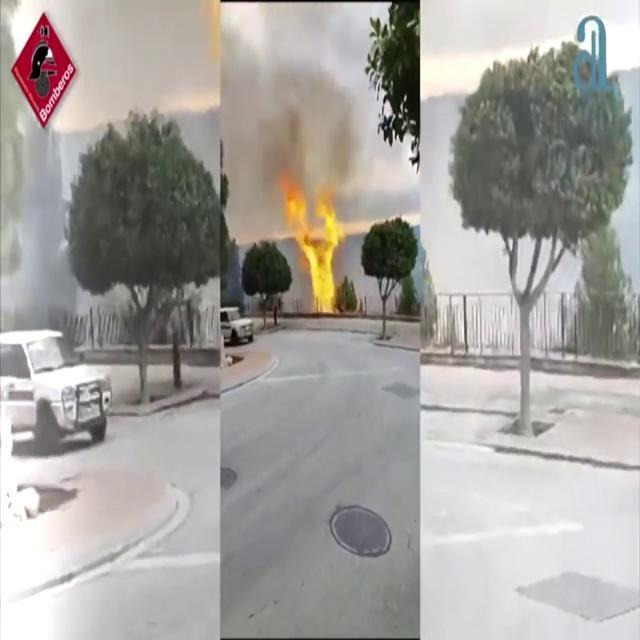Fire: (278, 182, 348, 314)
Smoke: (221, 4, 371, 202), (0, 1, 82, 337)
